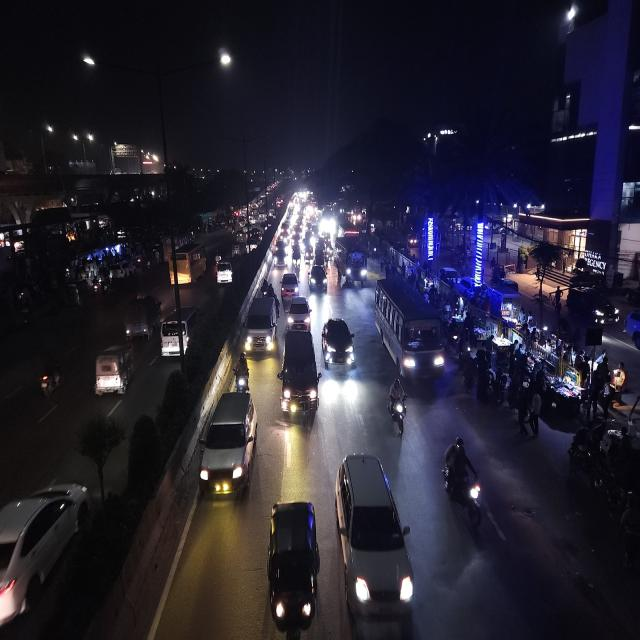bus: (376, 272, 448, 381), (166, 236, 206, 286), (333, 234, 368, 288)
car: (331, 451, 421, 622), (0, 479, 89, 628), (197, 392, 256, 505), (278, 328, 322, 428), (245, 294, 279, 360), (322, 318, 357, 378), (159, 307, 195, 360), (214, 253, 238, 294), (306, 263, 332, 295), (288, 296, 310, 328), (280, 272, 300, 296), (272, 248, 289, 271)
cng: (261, 508, 326, 637), (92, 340, 137, 403), (289, 251, 303, 273)
motorcycle: (439, 441, 489, 535), (34, 339, 64, 409), (386, 376, 408, 437), (230, 354, 252, 393)
